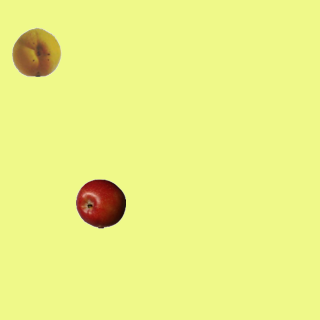Apple Braeburn: (75, 178, 125, 228)
Peach 2: (11, 26, 61, 76)
